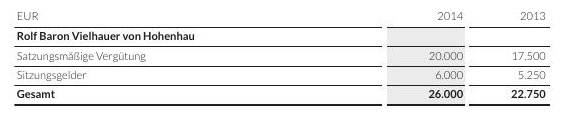table: (0, 0, 562, 117)
